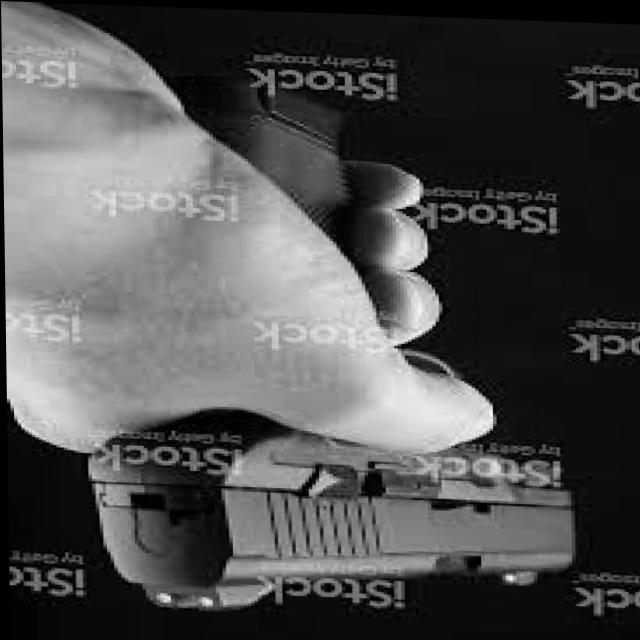handgun: (84, 69, 581, 620)
